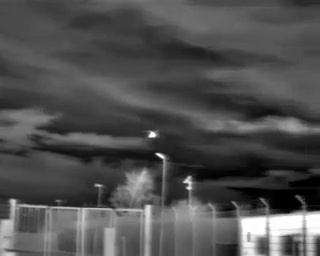HELICOPTER: (144, 125, 163, 142)
